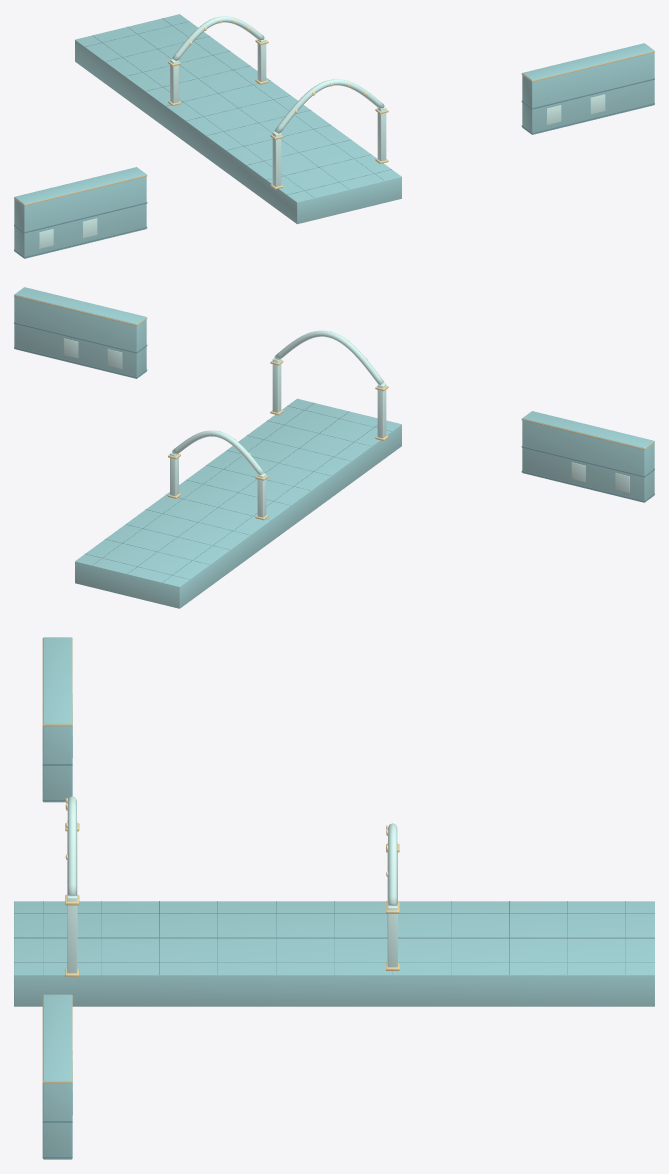
File: atlantis_district_gate.glb
3 renders of one model, top to bottom at view 1: azimuth 30°, elevation 25°; view 2: azimuth 150°, elevation 25°; view 3: azimuth 270°, elevation 25°, orthographic. The views are drawn at different scales.
Visible parts, largest first — view 1: atlantis_district_gate_surface; view 2: atlantis_district_gate_surface; view 3: atlantis_district_gate_surface.
Part boxes in pixels (x1,y1,x2,y2): atlantis_district_gate_surface: (14,14,654,258); atlantis_district_gate_surface: (14,287,654,608); atlantis_district_gate_surface: (14,637,654,1159).
Size of the model in its own units: 72.05 by 12.72 by 44.
